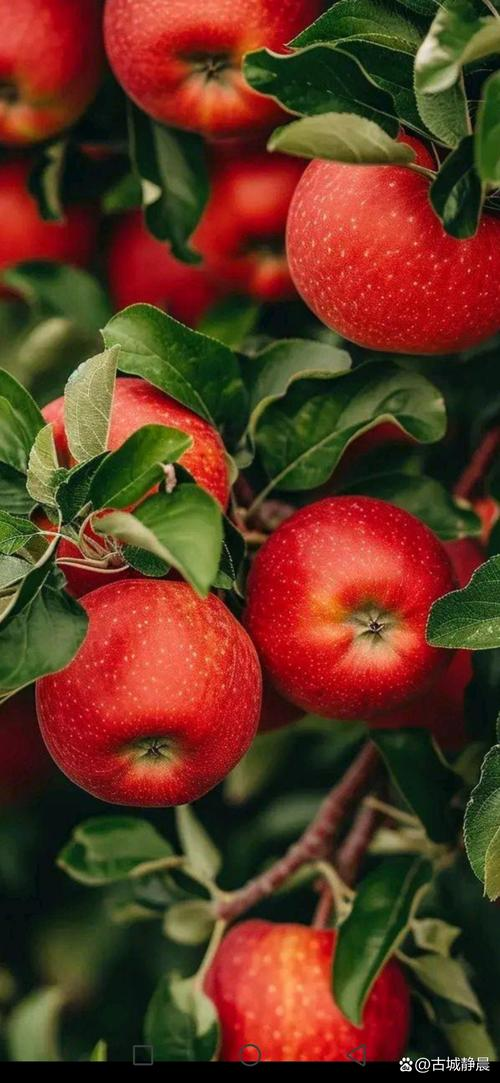ripe: (19, 566, 274, 821), (235, 495, 475, 716), (285, 116, 500, 356), (14, 367, 240, 591), (171, 898, 428, 1083), (86, 0, 337, 146)
